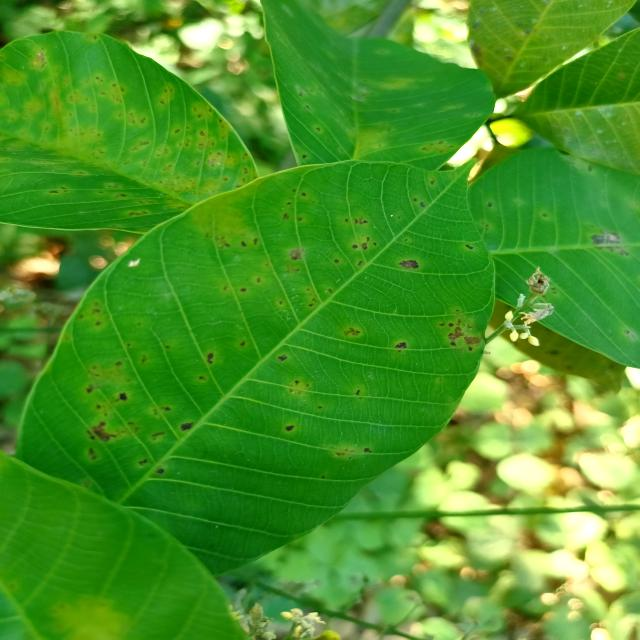Colletotrichum: (286, 425, 294, 432), (157, 469, 164, 474)
